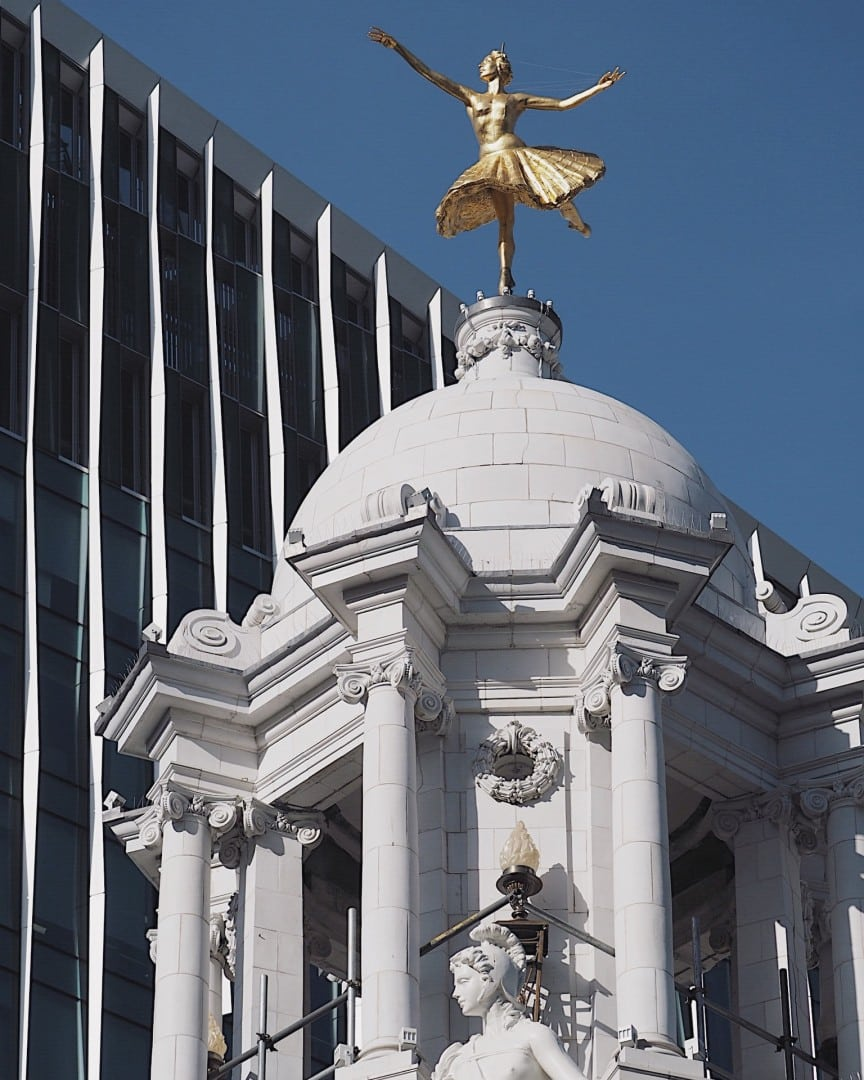person-like: (362, 13, 635, 302), (415, 929, 599, 1080)
